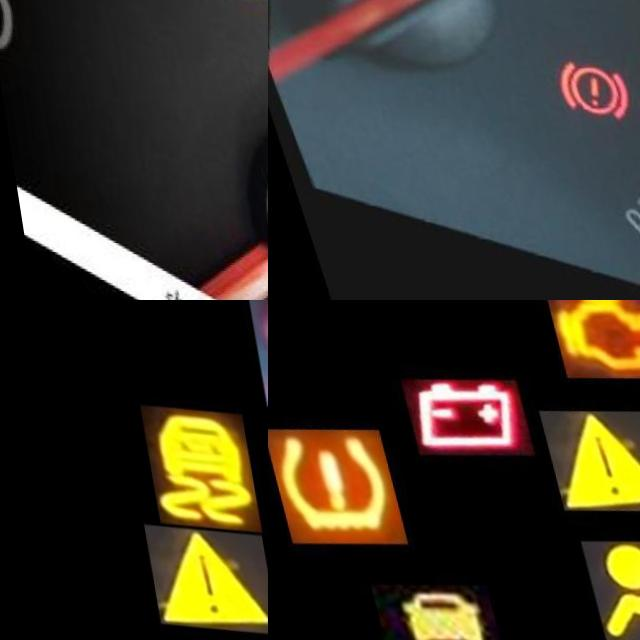Central Warning lamp: (134, 518, 266, 630), (526, 387, 640, 509)
